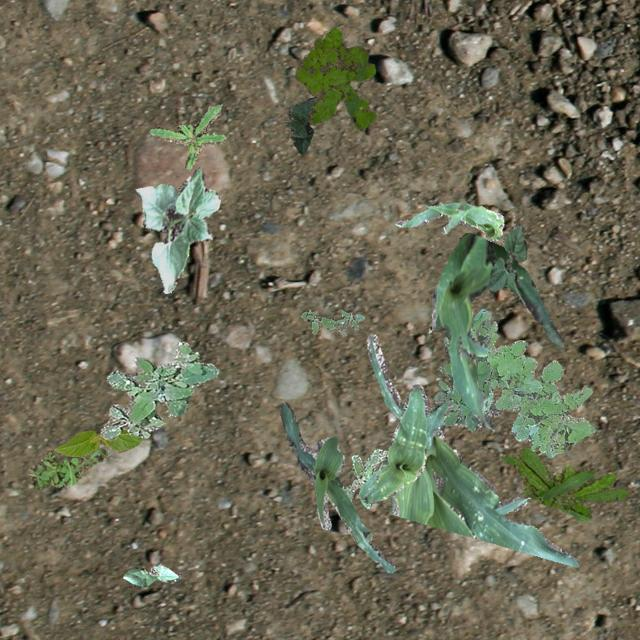crop: (366, 332, 578, 566), (428, 232, 562, 430), (278, 402, 394, 572), (359, 383, 451, 502), (136, 166, 220, 292), (394, 202, 502, 240), (488, 222, 526, 292), (54, 428, 140, 456), (284, 94, 316, 152), (122, 562, 180, 588)
weed: (470, 308, 594, 457), (100, 340, 218, 440), (500, 446, 626, 520), (294, 27, 376, 128), (433, 316, 492, 432), (148, 104, 224, 170), (28, 448, 106, 488), (342, 448, 386, 508), (300, 308, 364, 334)
